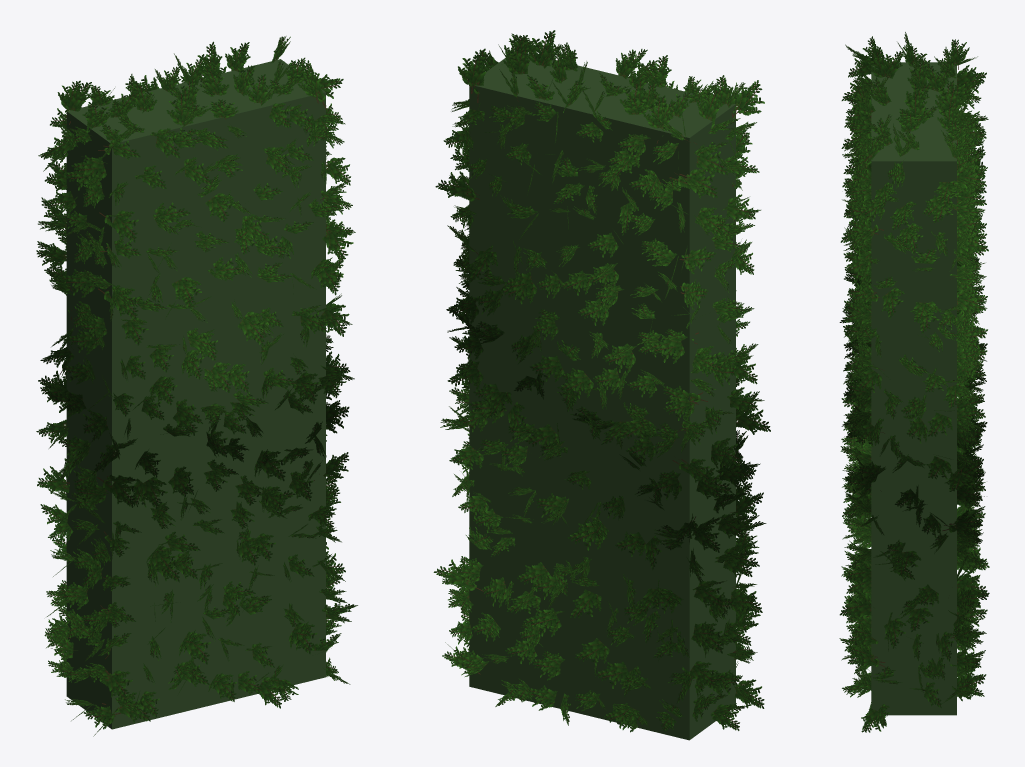
The model's file is hedge_tall.glb.
3 renders of one model, left to right at view 1: azimuth 30°, elevation 25°; view 2: azimuth 150°, elevation 25°; view 3: azimuth 270°, elevation 25°, orthographic. The views are drawn at different scales.
Visible parts, largest first — view 1: hedge_tall; view 2: hedge_tall; view 3: hedge_tall.
Boxes of the visible parts, bbox=[...] form: hedge_tall: bbox=[36, 36, 357, 736]; hedge_tall: bbox=[433, 30, 770, 740]; hedge_tall: bbox=[839, 32, 989, 732].
Size of the model in its own units: 3.89 by 8.28 by 2.29.
2 materials, 1 textured.
